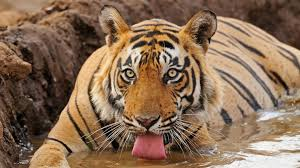tiger: (28, 5, 298, 168)
